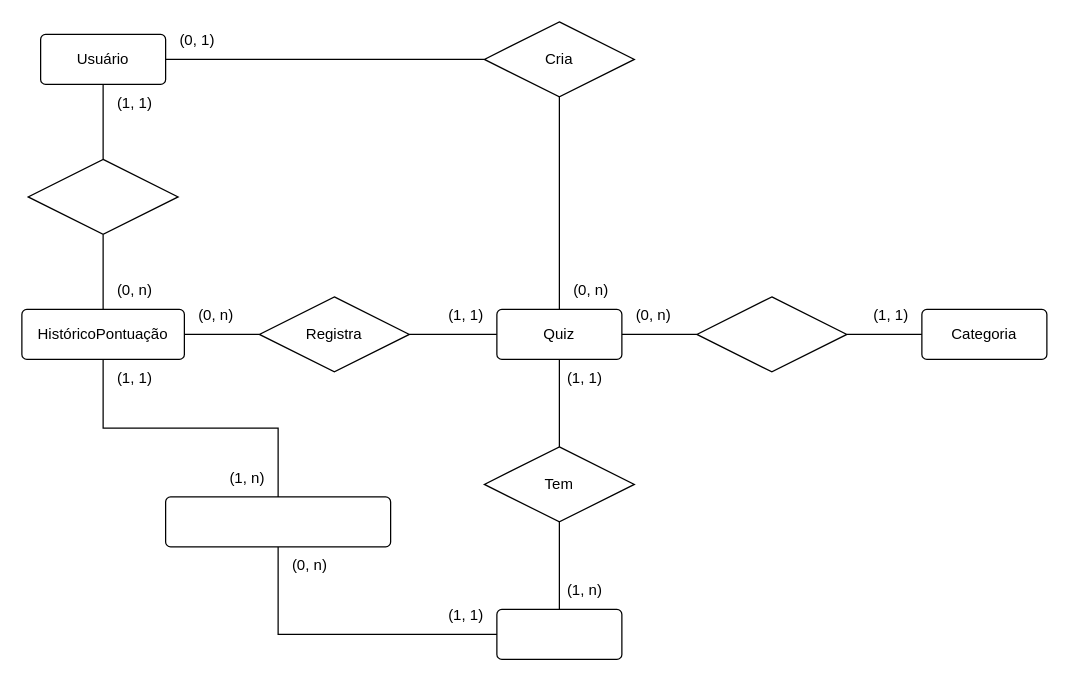
Some shapes in this 1069 by 681 pixel diagram are drawn without their labels. Each missing label, with the box of its shape:
Pergunta: (496, 608, 622, 659)
PerguntaHistóricoPontuação: (164, 496, 391, 547)
Pertence: (696, 296, 847, 372)
Pontua: (27, 158, 178, 234)
